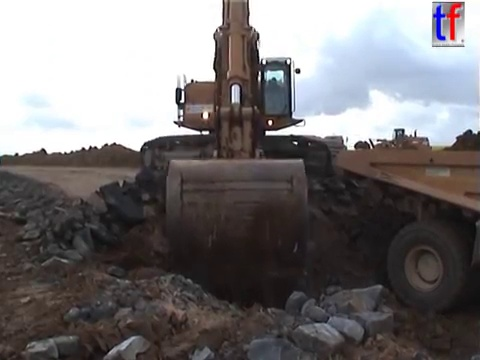excavator: (136, 1, 347, 284)
truck: (333, 146, 480, 317)
wheel loader: (353, 126, 433, 159)
